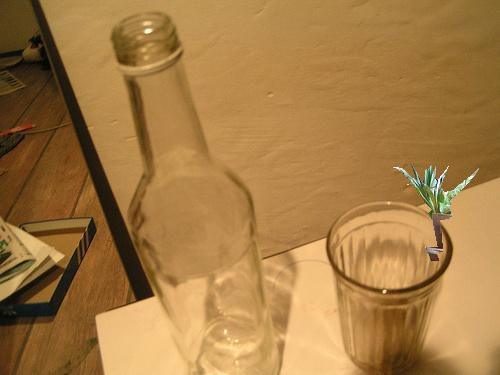tampered: (394, 165, 479, 261)
